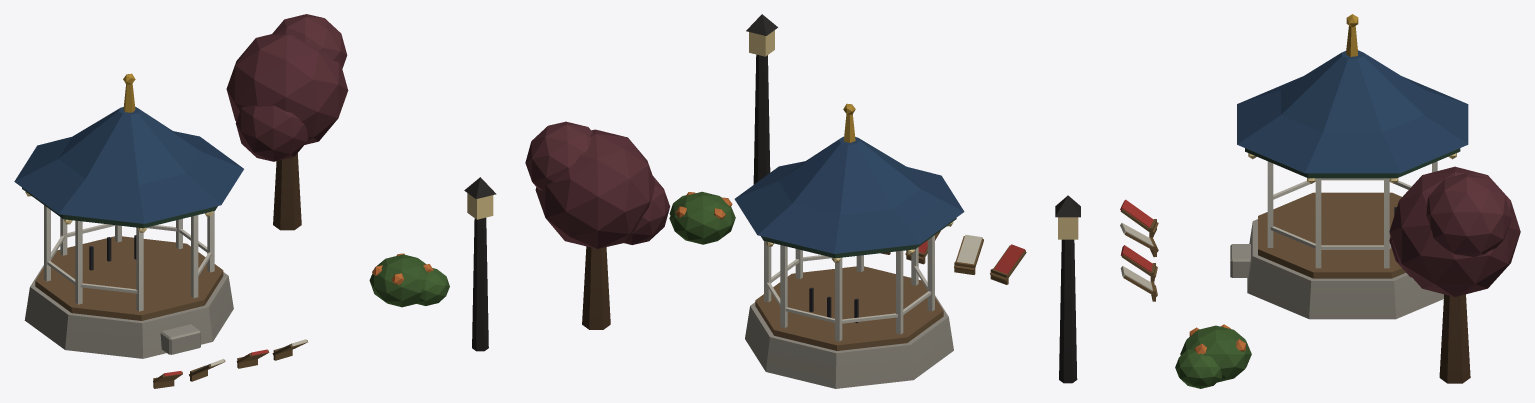
File: bandstand.glb
3 renders of one model, left to right at view 1: azimuth 30°, elevation 25°; view 2: azimuth 150°, elevation 25°; view 3: azimuth 270°, elevation 25°, orthographic. The views are drawn at different scales.
Visible parts, largest first — view 1: bandstand_model; view 2: bandstand_model; view 3: bandstand_model.
Part boxes in pixels (x1,y1,x2,y2): bandstand_model: (14,14,496,388); bandstand_model: (525,14,1026,388); bandstand_model: (1055,14,1520,388).
Bounding box in the file's own units: 0.7845 × 0.5027 × 0.8181.
